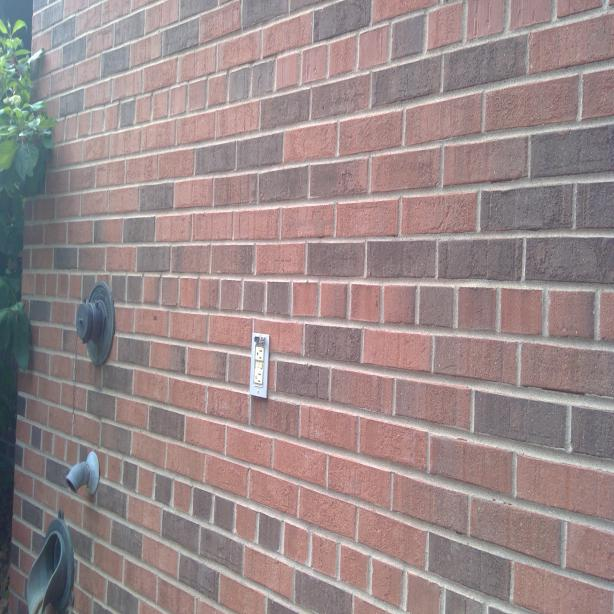typeb: (252, 368, 264, 385), (254, 346, 264, 362)
